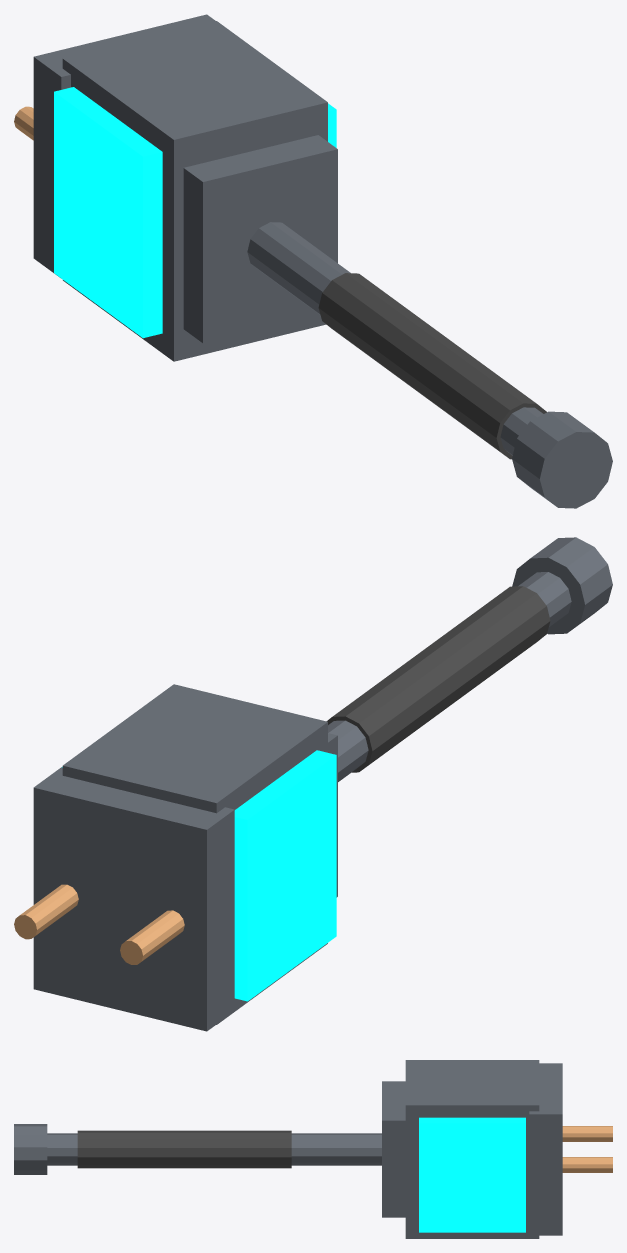
The model's file is stormcore_hammer.glb.
3 renders of one model, top to bottom at view 1: azimuth 30°, elevation 25°; view 2: azimuth 150°, elevation 25°; view 3: azimuth 270°, elevation 25°, orthographic. The views are drawn at different scales.
Visible parts, largest first — view 1: Hammer_Head_Body, Striking_Face_Back, Arc_Rail_L, Grip_Wrap, Pommel_Cap, Striking_Face_Front, Handle_Shaft; view 2: Striking_Face_Front, Hammer_Head_Body, Arc_Rail_L, Grip_Wrap, Pommel_Cap, Handle_Shaft, Prong_R, Prong_L; view 3: Arc_Rail_R, Hammer_Head_Body, Grip_Wrap, Striking_Face_Front, Handle_Shaft, Striking_Face_Back, Pommel_Cap, Prong_L, Prong_R.
Part boxes in pixels (<box>): Hammer_Head_Body: <box>62,21,327,361</box>; Striking_Face_Back: <box>183,135,337,343</box>; Arc_Rail_L: <box>54,87,162,338</box>; Grip_Wrap: <box>318,273,546,459</box>; Pommel_Cap: <box>512,411,612,508</box>; Striking_Face_Front: <box>33,14,215,277</box>; Handle_Shaft: <box>247,222,543,455</box>; Striking_Face_Front: <box>33,767,234,1031</box>; Hammer_Head_Body: <box>62,684,327,1024</box>; Arc_Rail_L: <box>234,750,336,1001</box>; Grip_Wrap: <box>326,586,550,772</box>; Pommel_Cap: <box>512,537,612,634</box>; Handle_Shaft: <box>328,572,571,781</box>; Prong_R: <box>14,884,78,939</box>; Prong_L: <box>120,910,184,964</box>; Arc_Rail_R: <box>419,1117,525,1232</box>; Hammer_Head_Body: <box>405,1060,539,1238</box>; Grip_Wrap: <box>77,1130,291,1168</box>; Striking_Face_Front: <box>529,1063,562,1235</box>; Handle_Shaft: <box>47,1133,381,1165</box>; Striking_Face_Back: <box>382,1081,405,1217</box>; Pommel_Cap: <box>14,1124,47,1174</box>; Prong_L: <box>562,1126,612,1141</box>; Prong_R: <box>562,1157,612,1172</box>.
Size of the model in its own units: 0.201 by 0.22 by 0.895.
